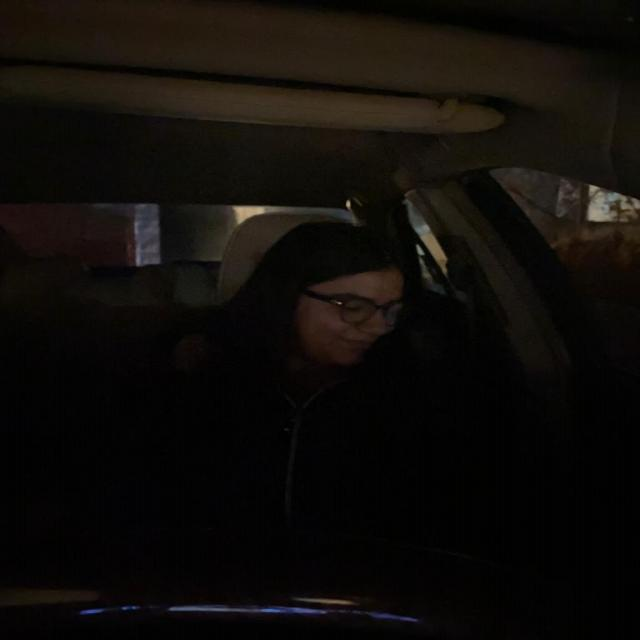drowsy: (240, 213, 414, 389)
